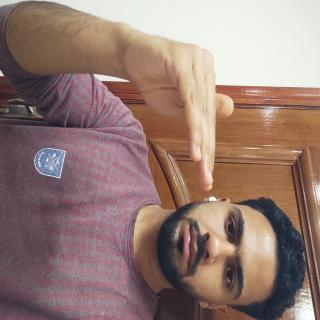KHAA: (15, 108, 143, 268)
